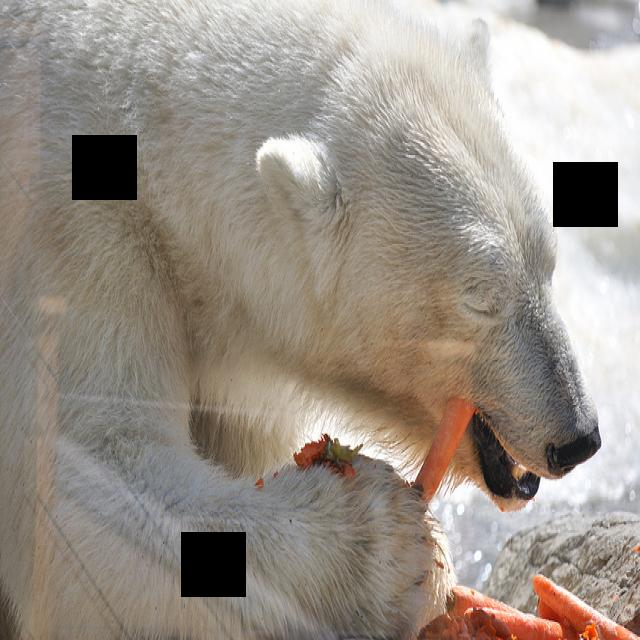Bear: (0, 5, 603, 633)
